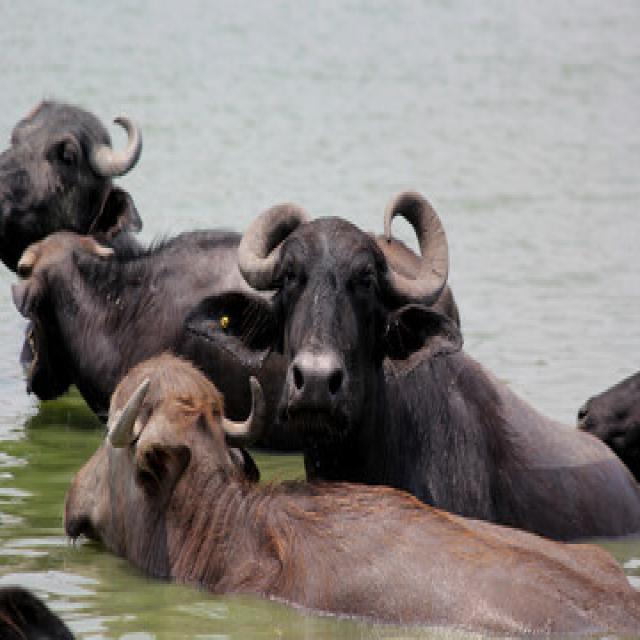Buffalo: (235, 183, 609, 515)
